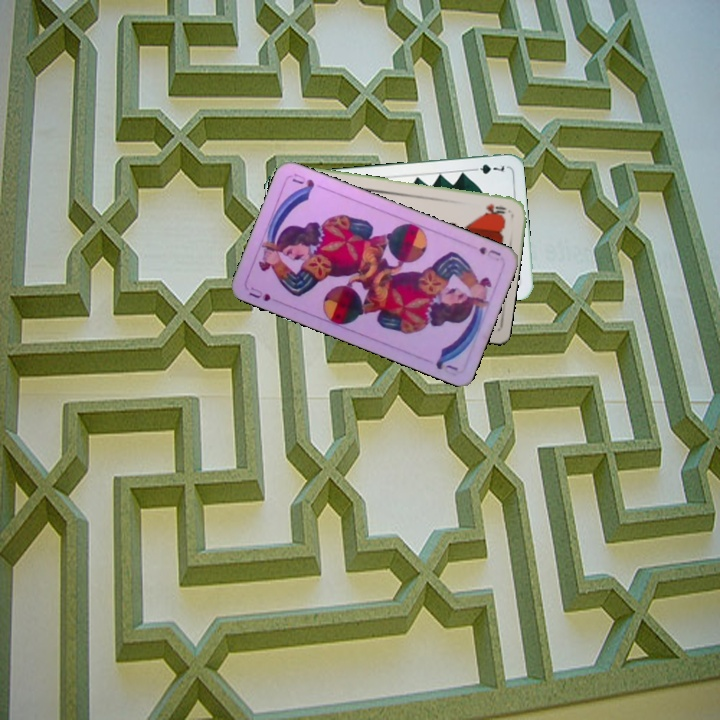G7: (467, 160, 507, 177)
HO: (481, 199, 509, 218)
SU: (475, 241, 503, 264), (245, 283, 273, 304)
